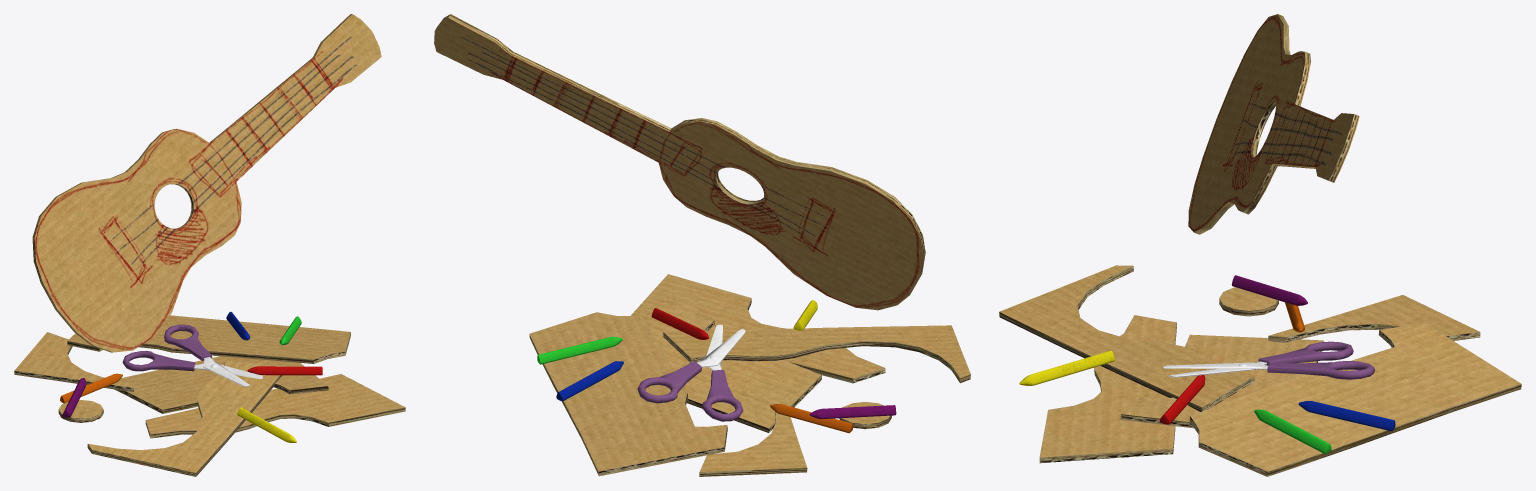
The model's file is cardboard_guitar.glb.
3 renders of one model, left to right at view 1: azimuth 30°, elevation 25°; view 2: azimuth 150°, elevation 25°; view 3: azimuth 270°, elevation 25°, orthographic. The views are drawn at different scales.
Parts seen in each view (by area): view 1: Object_2; view 2: Object_2; view 3: Object_2.
Part boxes in pixels (x1=…): Object_2: x1=14, y1=14, x2=405, y2=476; Object_2: x1=434, y1=14, x2=970, y2=476; Object_2: x1=999, y1=14, x2=1521, y2=476.
Bounding box in the file's own units: 27.12 × 20.6 × 24.47.
Materials: 1 (1 with a texture image).
